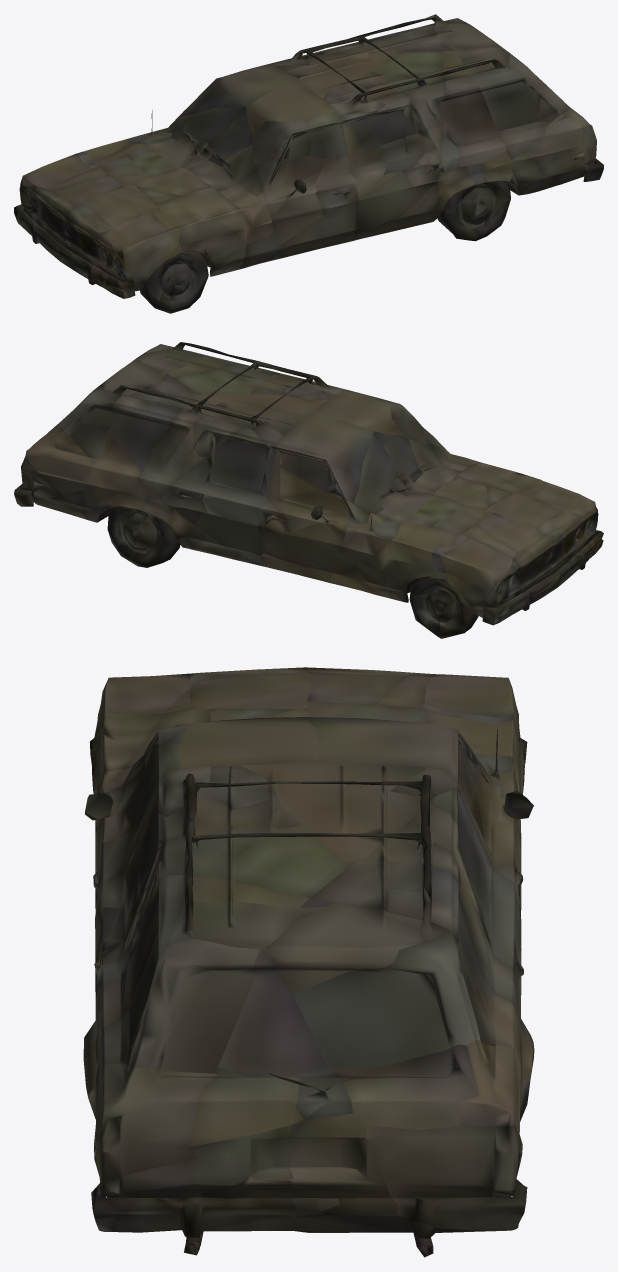
The model's file is car_wagon_light_q1.glb.
3 renders of one model, top to bottom at view 1: azimuth 30°, elevation 25°; view 2: azimuth 150°, elevation 25°; view 3: azimuth 270°, elevation 25°, orthographic. The views are drawn at different scales.
Size of the model in its own units: 4.78 by 1.49 by 1.88.
Materials: 1 (1 with a texture image).
